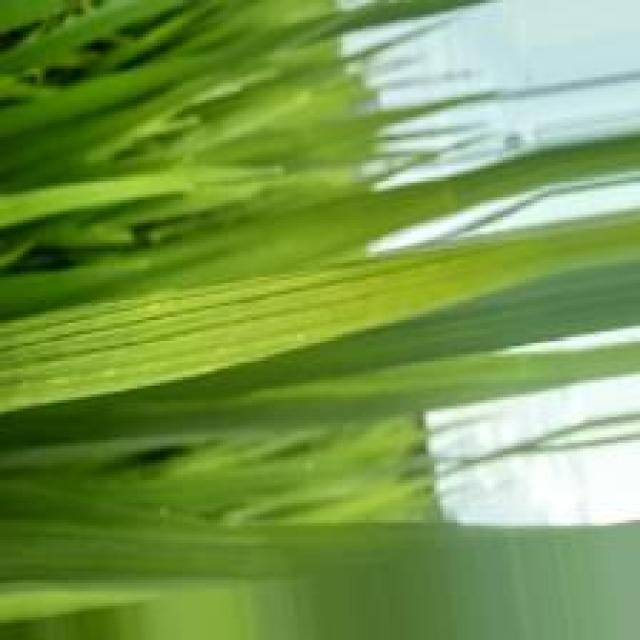HealthyLeaf: (0, 216, 640, 418)
